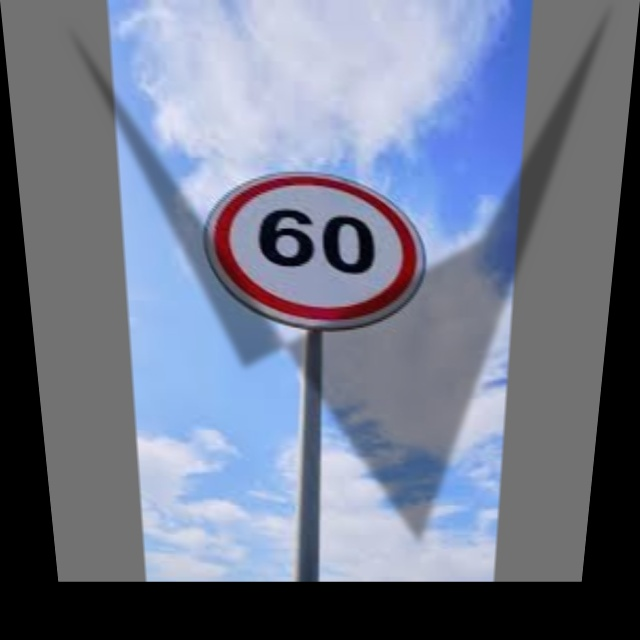Speed_Limit_60: (204, 165, 438, 329)
